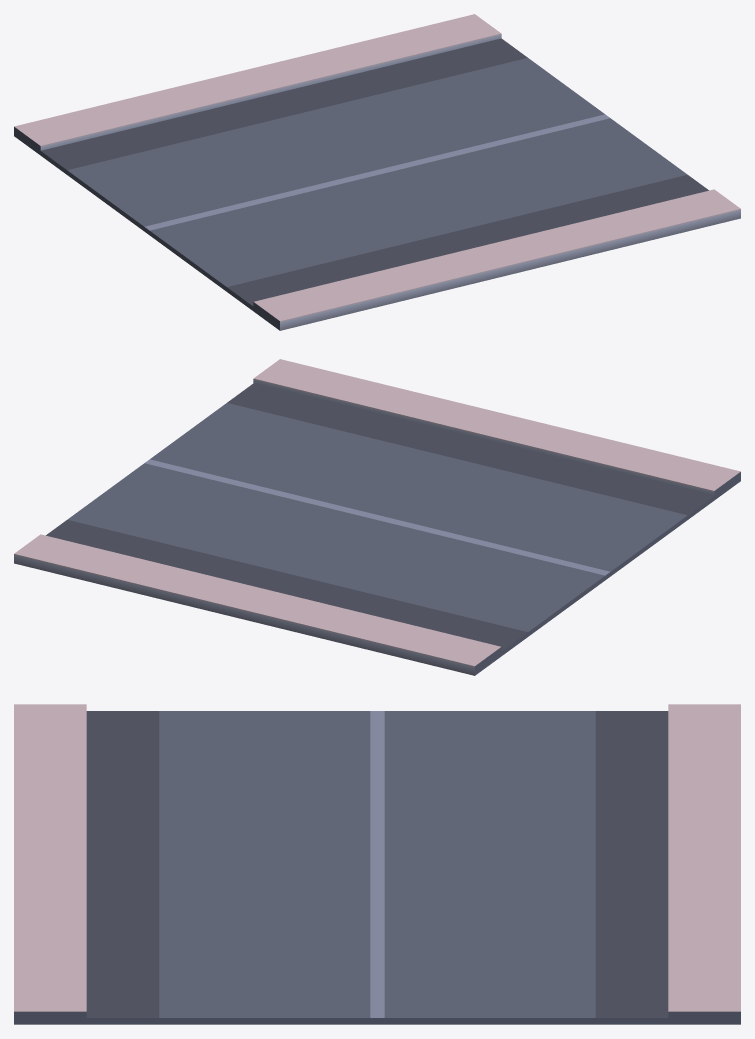
Rendered from road_road_straight.glb.
3 renders of one model, top to bottom at view 1: azimuth 30°, elevation 25°; view 2: azimuth 150°, elevation 25°; view 3: azimuth 270°, elevation 25°, orthographic. The views are drawn at different scales.
Visible parts, largest first — view 1: road-straight; view 2: road-straight; view 3: road-straight.
Part boxes in pixels (bbox=[...]): road-straight: bbox=[14, 14, 740, 330]; road-straight: bbox=[14, 359, 740, 675]; road-straight: bbox=[14, 704, 740, 1024].
Size of the model in its own units: 1 by 0.02 by 1.
1 material, 1 textured.
